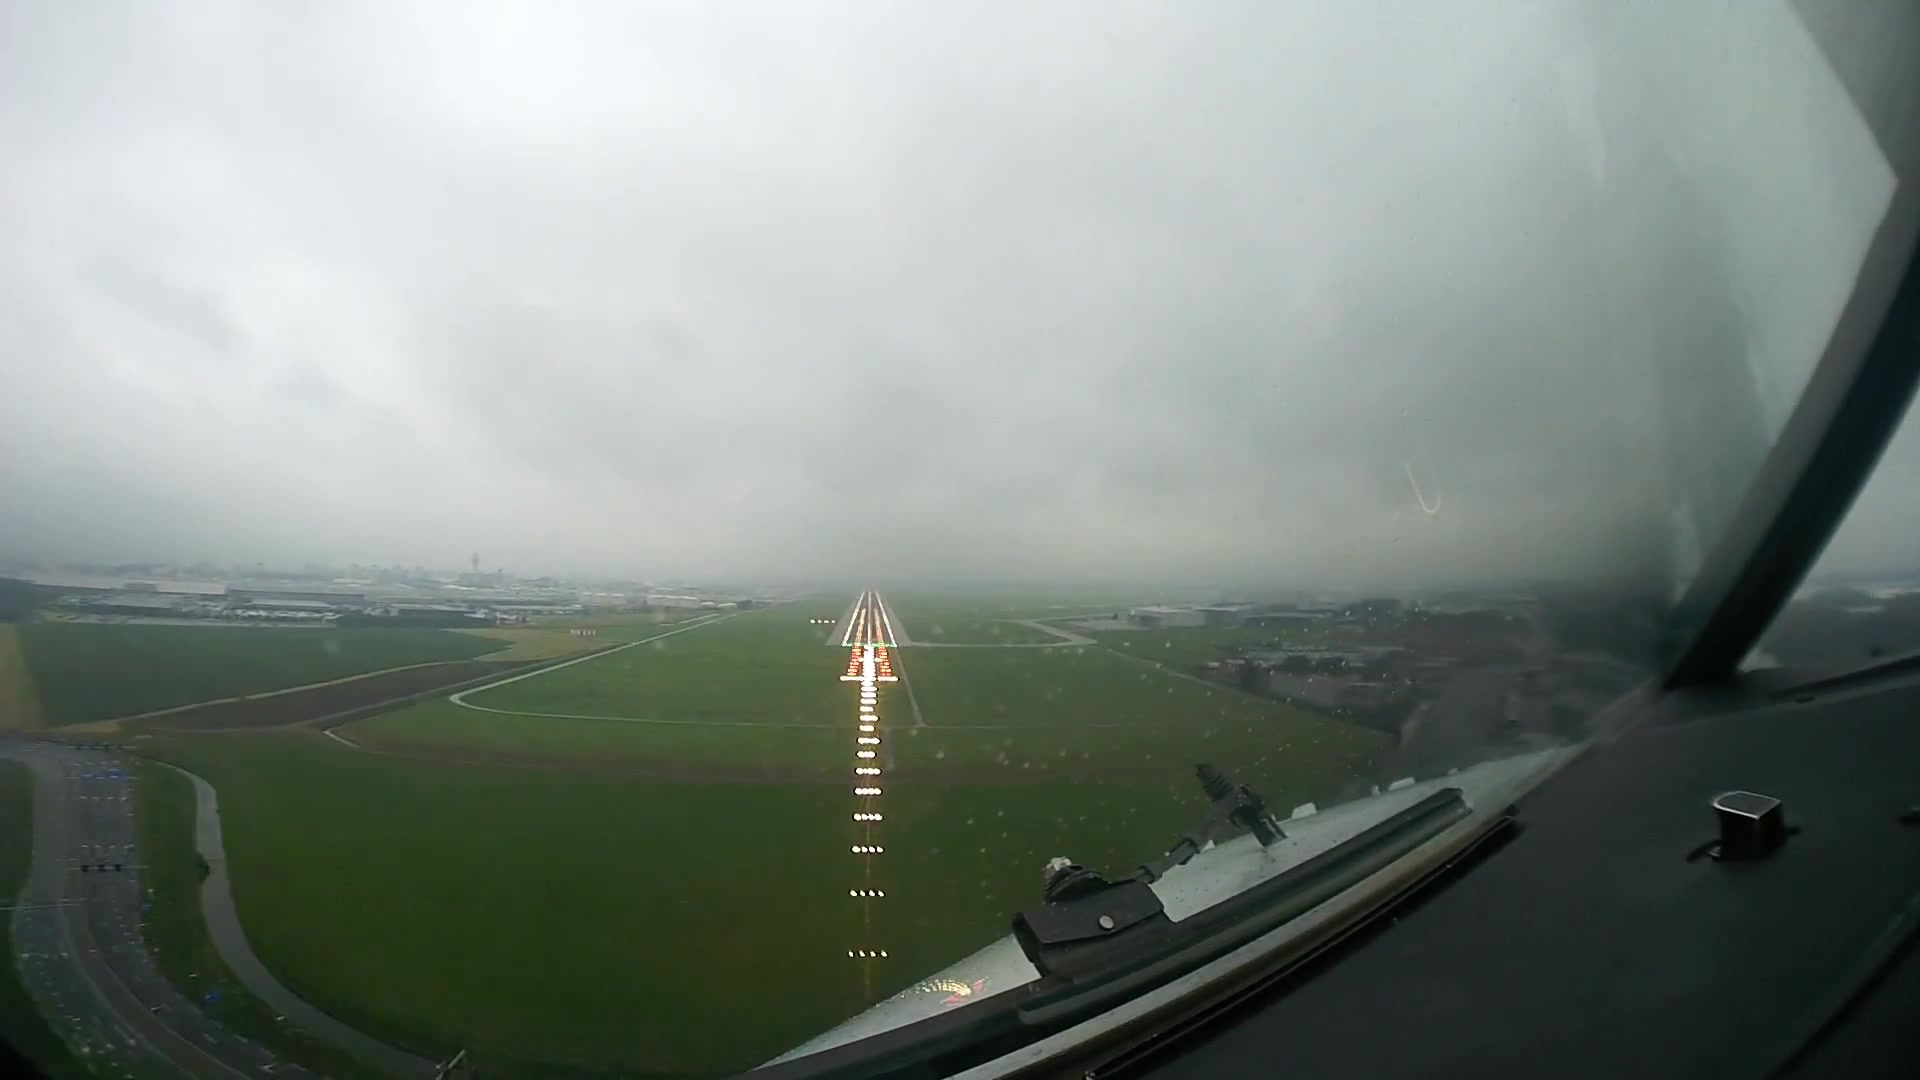runway: (831, 591, 907, 649)
